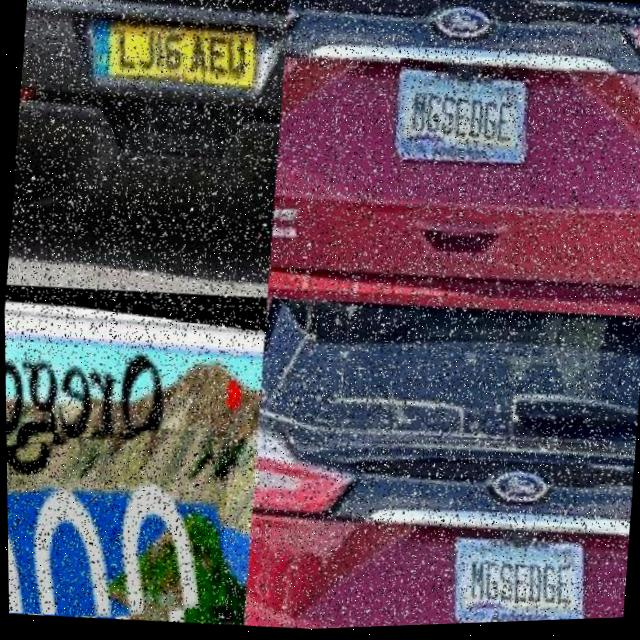LicensePlate: (5, 412, 231, 631), (393, 63, 528, 165), (452, 533, 581, 624), (93, 26, 255, 79)
